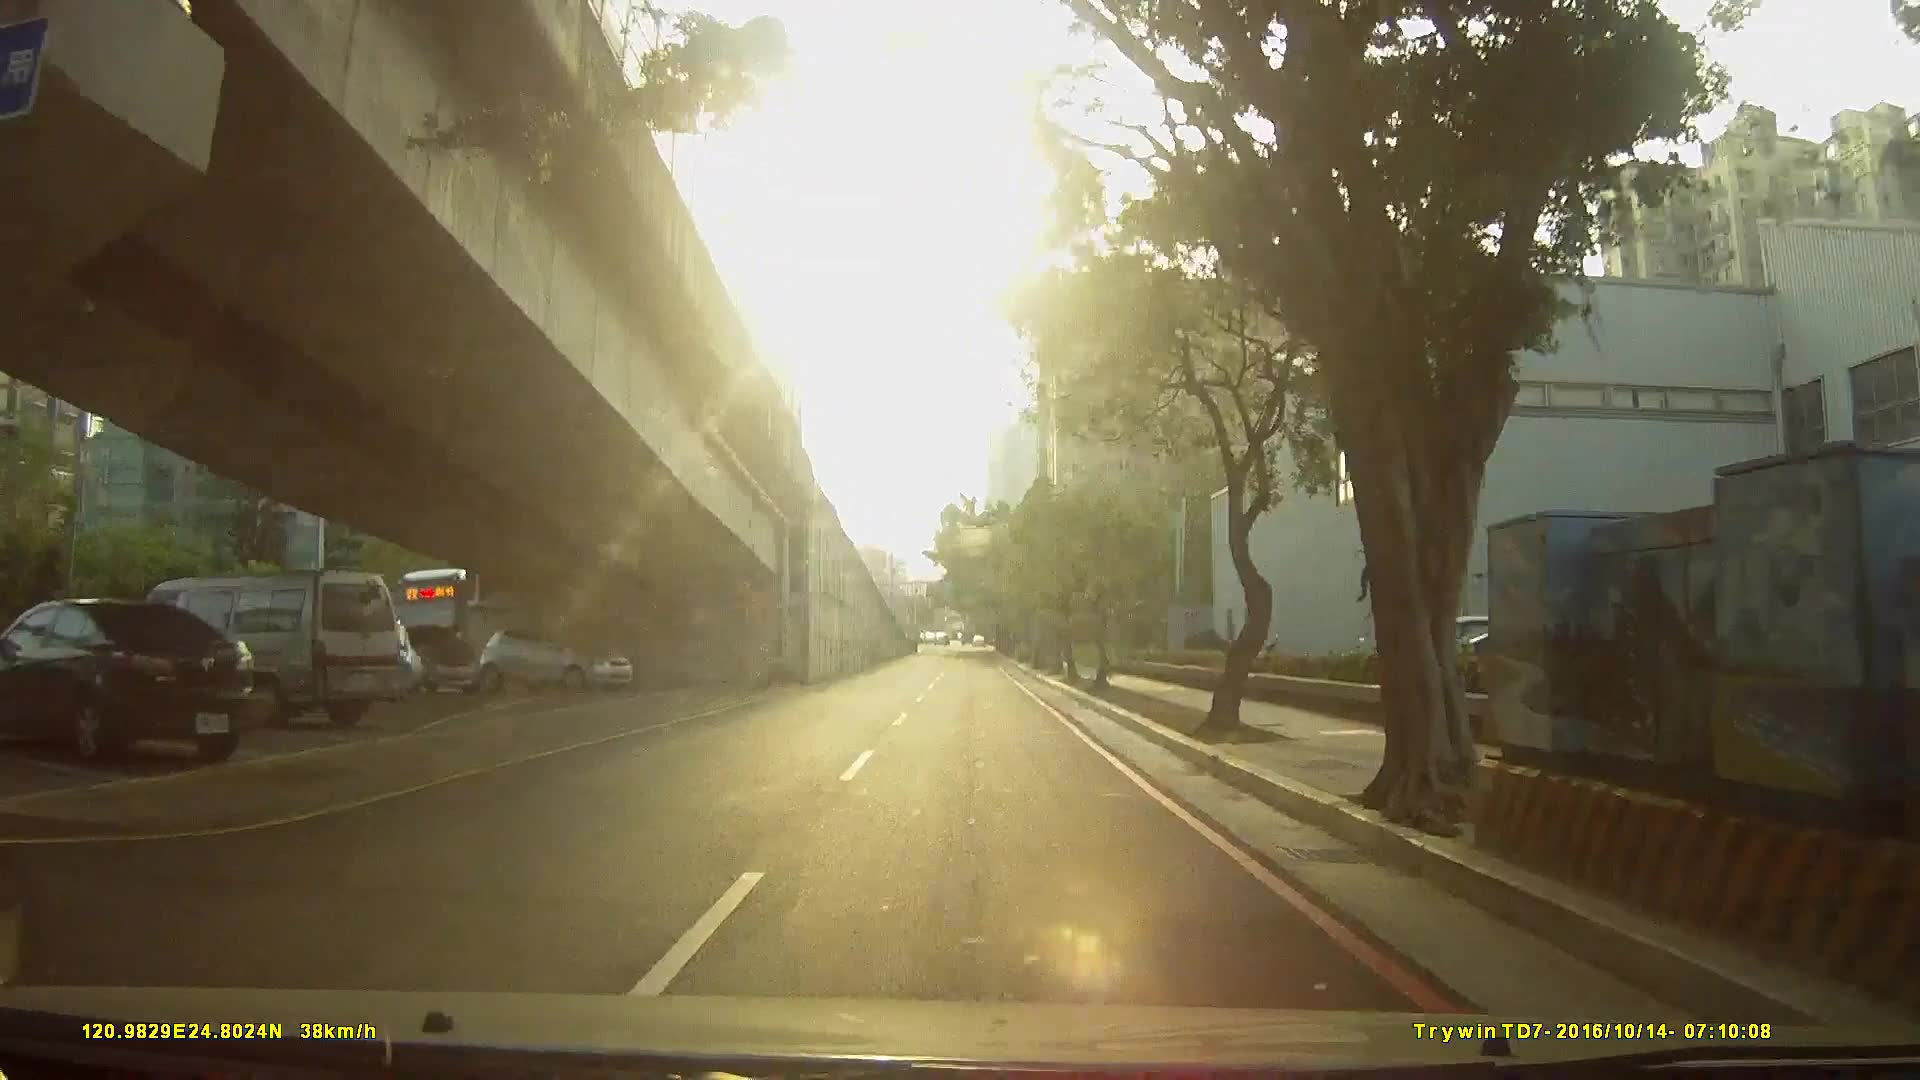vehicle: (1, 588, 291, 770), (103, 568, 392, 735), (472, 622, 632, 696), (364, 621, 479, 698)
